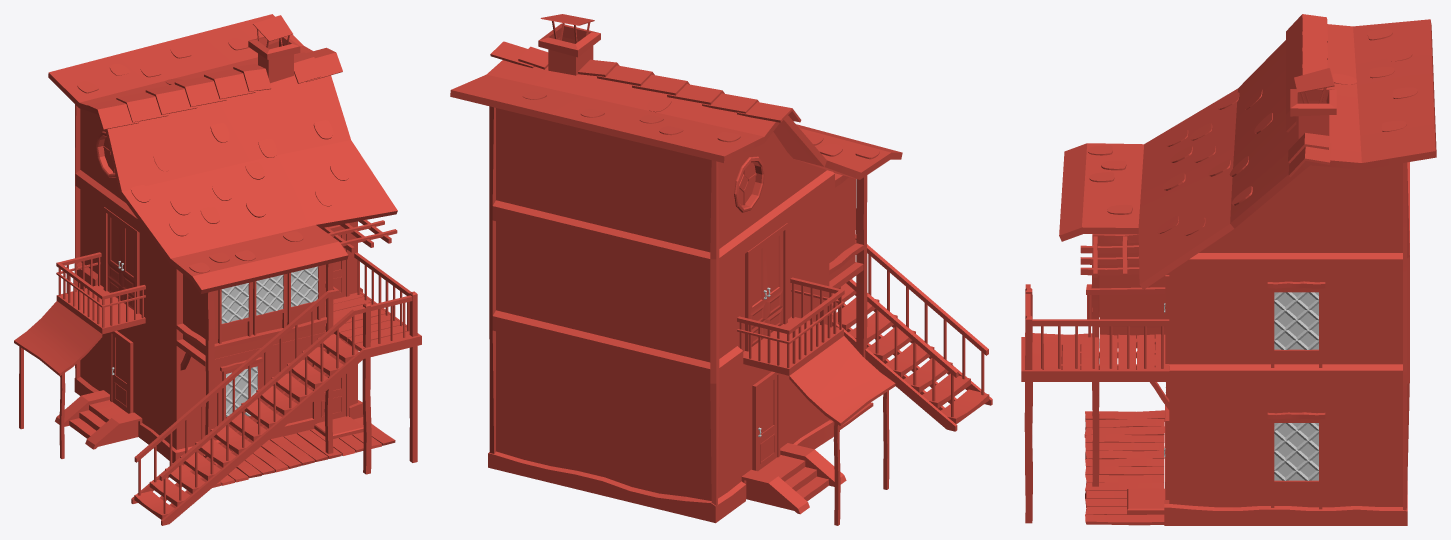
File: ShopHouseLOD0.fbx
3 renders of one model, left to right at view 1: azimuth 30°, elevation 25°; view 2: azimuth 150°, elevation 25°; view 3: azimuth 270°, elevation 25°, orthographic. The views are drawn at different scales.
Parts seen in each view (by area): view 1: Base; view 2: Base; view 3: Base.
Part boxes in pixels (x1,y1,x2,y2): Base: (14,14,421,525); Base: (450,14,992,525); Base: (1021,14,1436,525).
Bounding box in the file's own units: 333 × 376 × 327.
